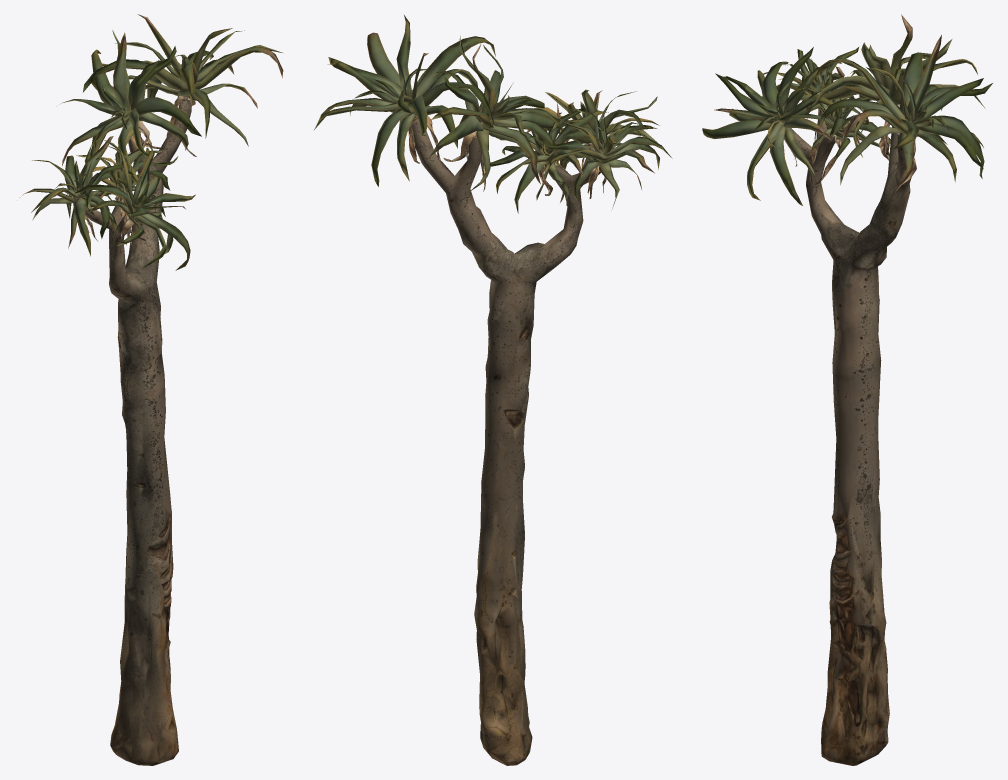
File: quiver_tree_01.glb
3 views of the same model, side by side, from view 1: azimuth 30°, elevation 25°; view 2: azimuth 150°, elevation 25°; view 3: azimuth 270°, elevation 25° (orthographic). The views are drawn at different scales.
Parts seen in each view (by area): view 1: quiver_tree_01; view 2: quiver_tree_01; view 3: quiver_tree_01.
Boxes of the visible parts, <box> form: quiver_tree_01: <box>19,14,283,765</box>; quiver_tree_01: <box>314,15,672,765</box>; quiver_tree_01: <box>702,14,992,765</box>.
Size of the model in its own units: 1.18 by 2.72 by 0.9614.
2 materials, 2 textured.
